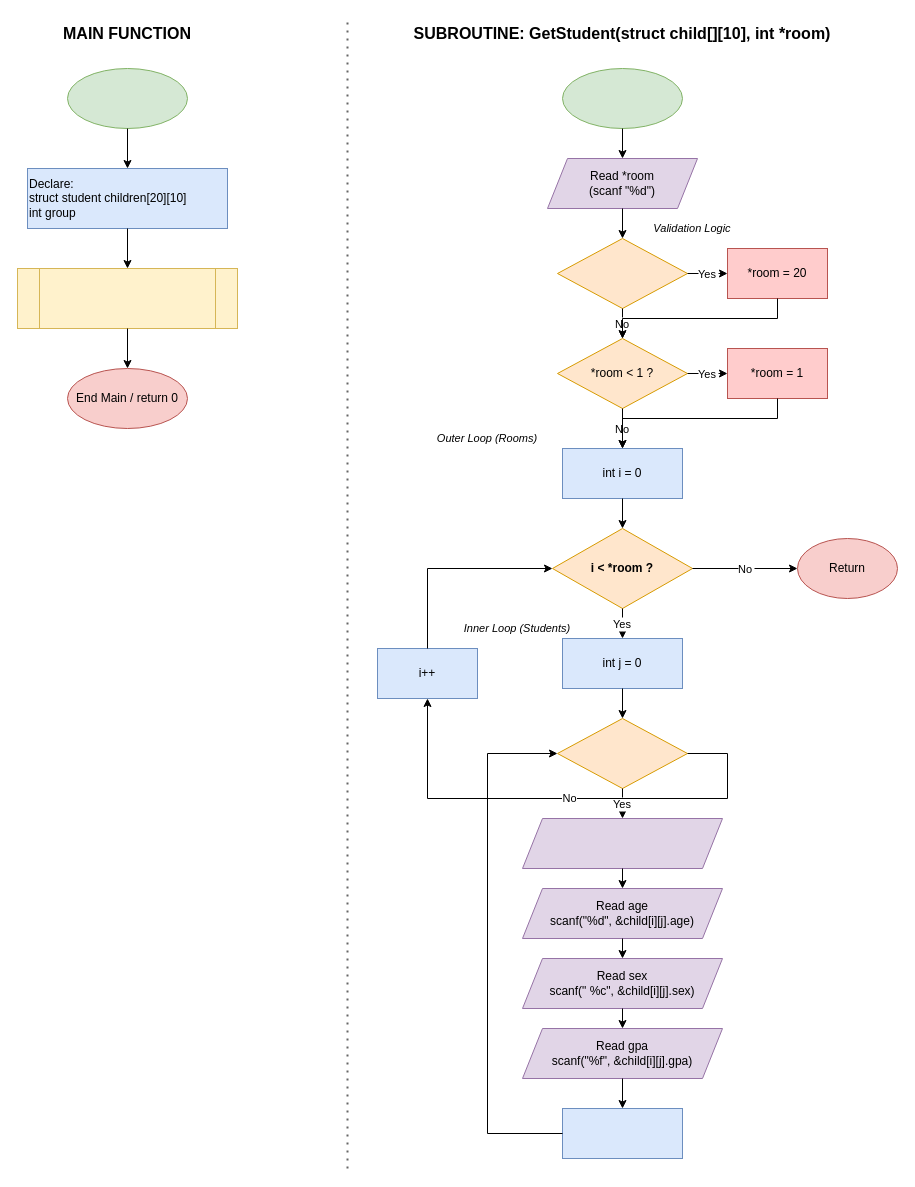
Some shapes in this 915 by 1187 pixel diagram are drawn without their labels. Each missing label, with the centre of its shape:
*room > 20 ?: point 622,273
GetStudent(children, &group) (Pass array & address of group): point 127,298
j < 10 ?: point 622,753
j++: point 622,1133
Read name scanf("%s", child[i][j].name): point 622,843
Start GetStudent: point 622,98
Start Main: point 127,98
